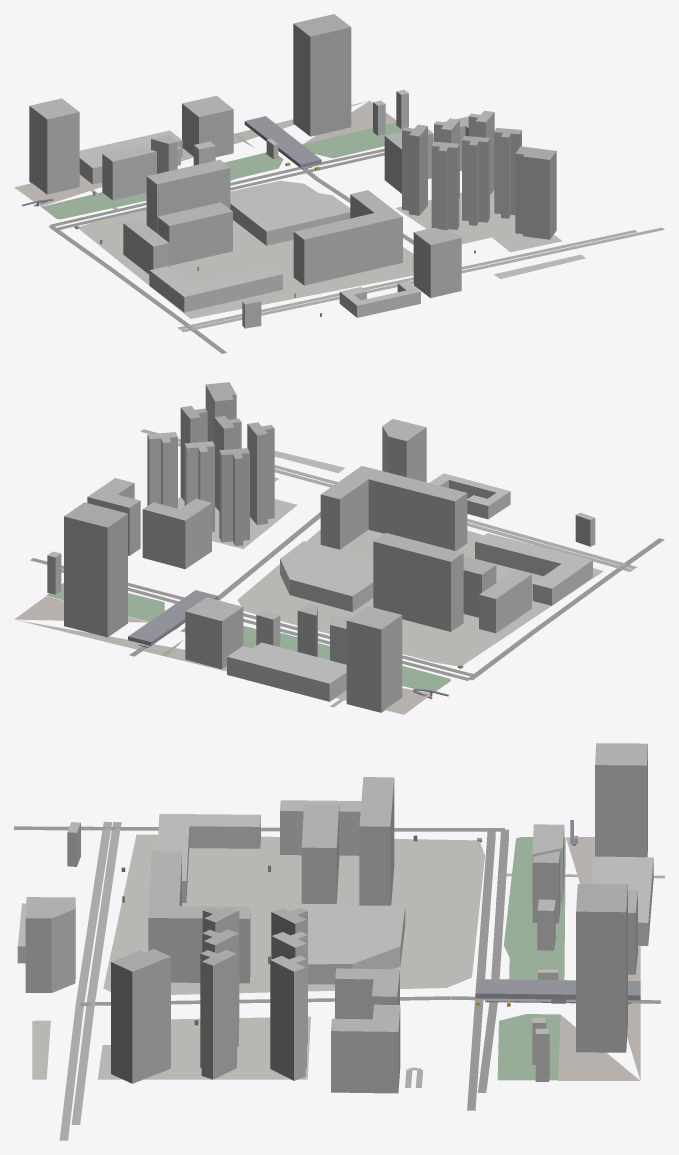
3 renders of one model, top to bottom at view 1: azimuth 30°, elevation 25°; view 2: azimuth 150°, elevation 25°; view 3: azimuth 270°, elevation 25°, orthographic. The views are drawn at different scales.
Size of the model in its own units: 622 by 130 by 535.
